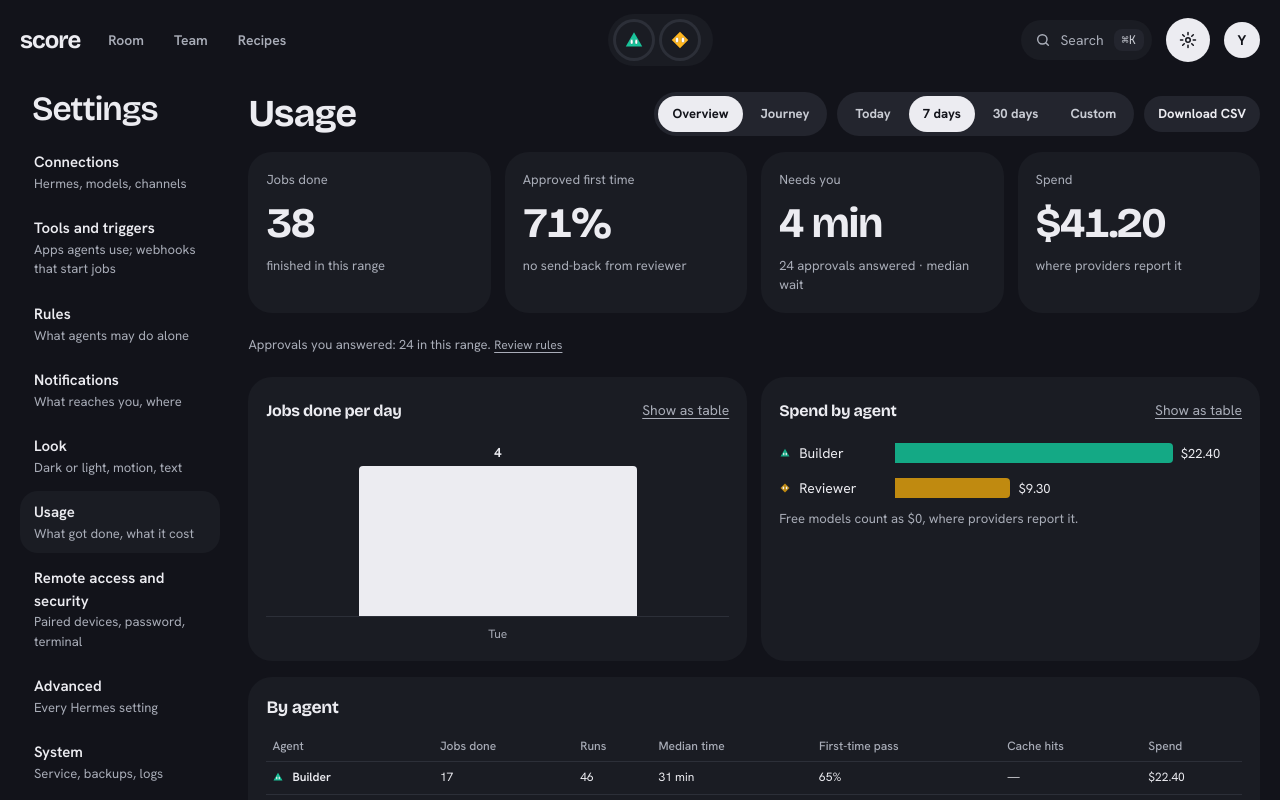
Test: the custom form follows a preset picked while it is open
Expected: the element named "Usage in numbers" is shown, top-left (248, 152), bottom-right (1260, 313)
Click the button "Custom" at (1093,114), box top-left (1056, 96), bottom-right (1130, 132)
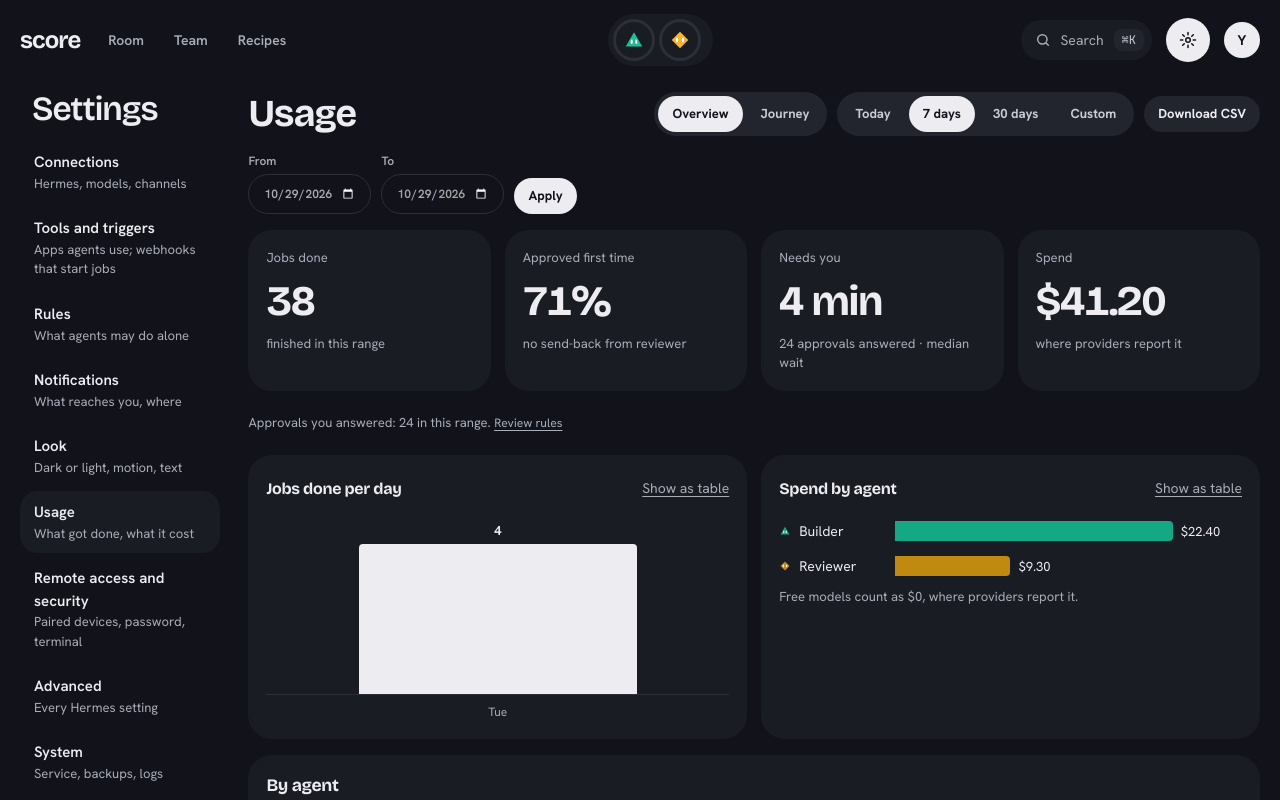
Type "2026-02-01" into the date field labelled "From" at (310,194), box top-left (248, 174), bottom-right (371, 214)
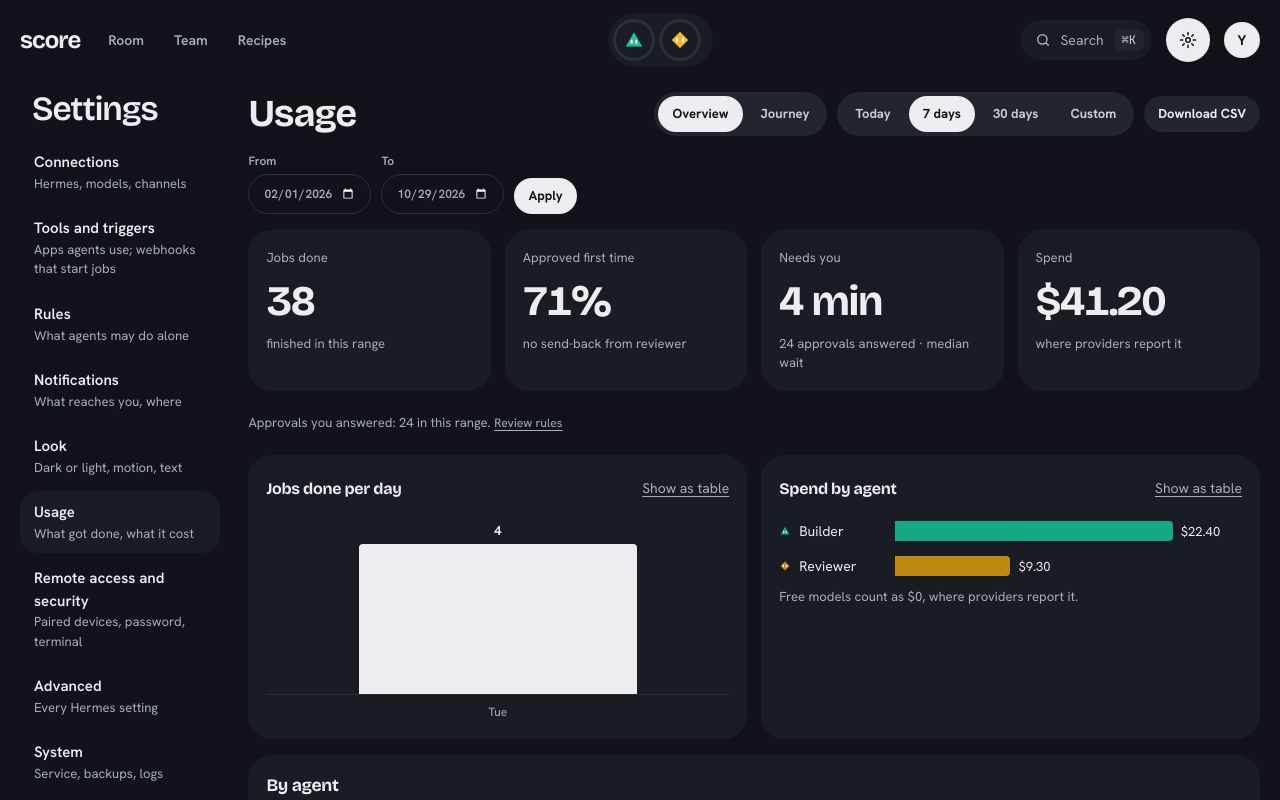
Type "2026-02-10" into the date field labelled "To" at (443,194), box top-left (381, 174), bottom-right (504, 214)
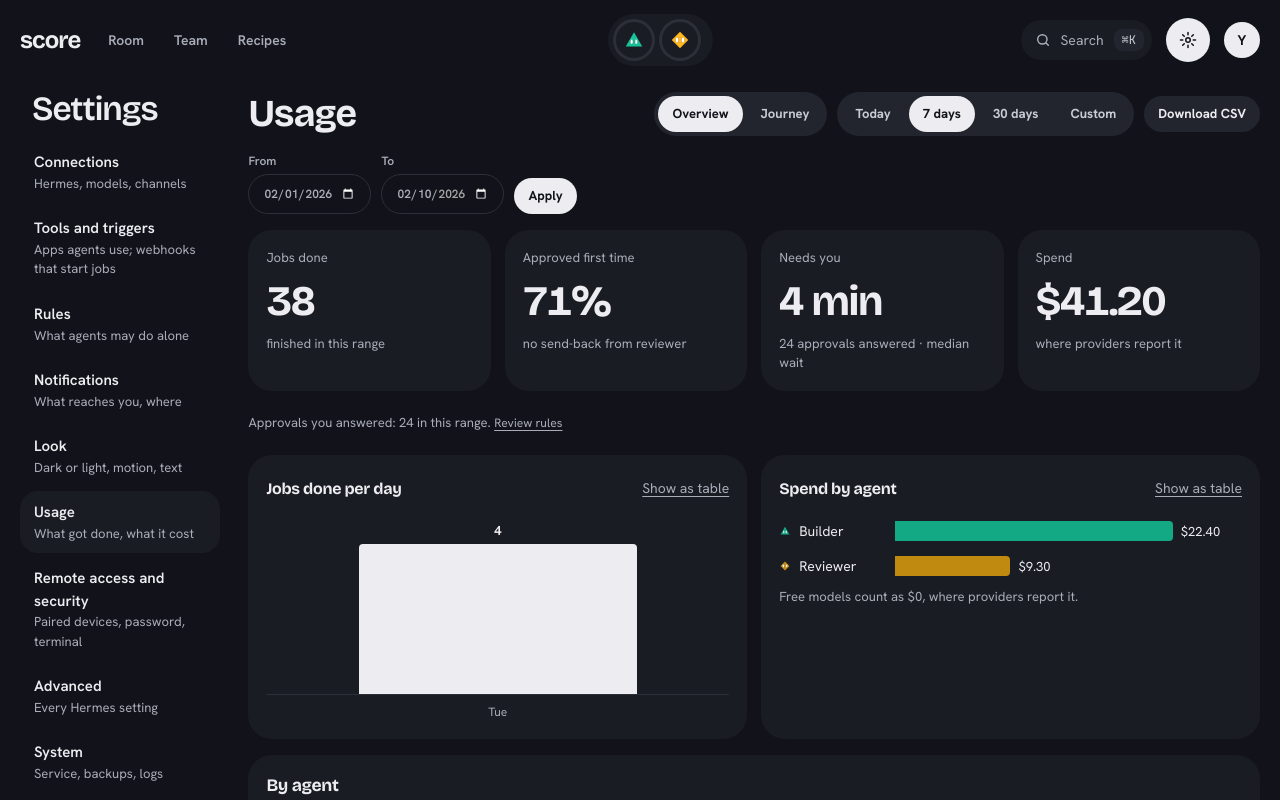
Click the button "Apply" at (546,196), box top-left (514, 178), bottom-right (577, 214)
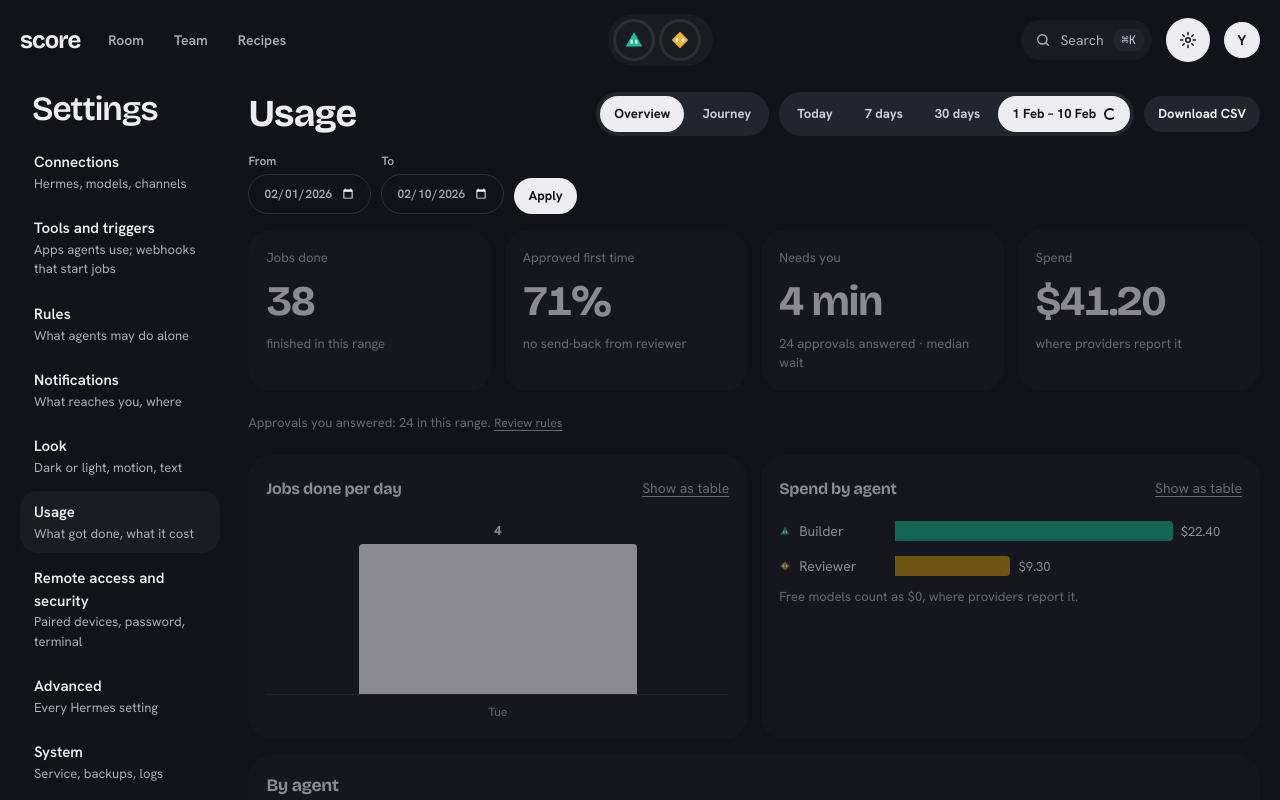
Click the button "30 days" at (958,114), box top-left (921, 96), bottom-right (994, 132)
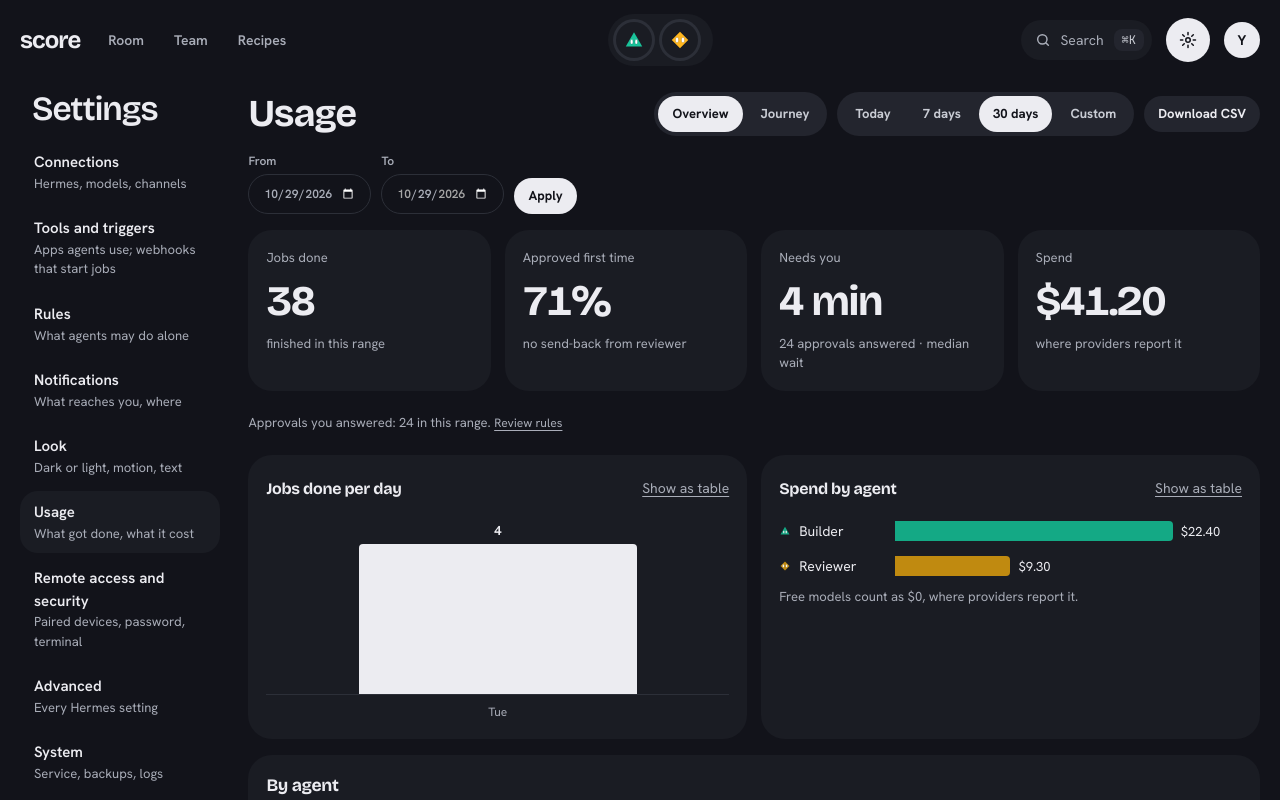
Now the date field labelled "From" does not hold "2026-02-01", box top-left (248, 174), bottom-right (371, 214)
